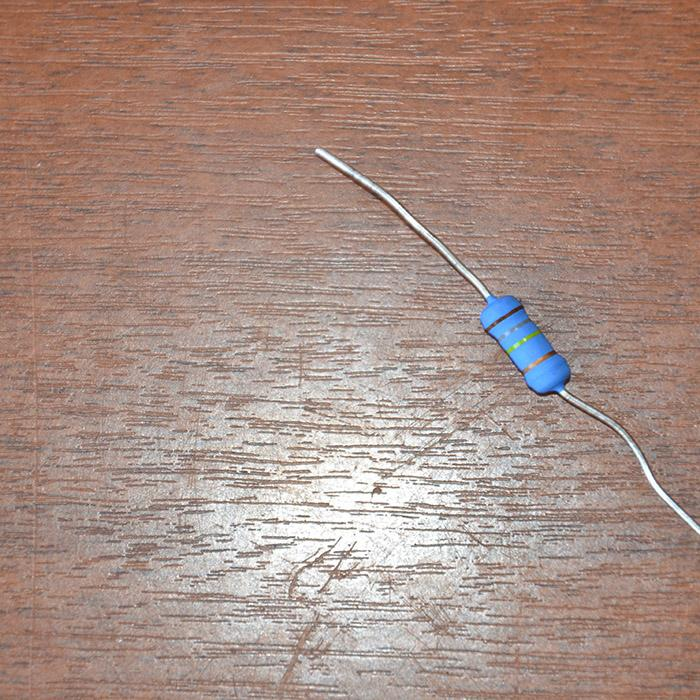resistor: (479, 292, 569, 394)
